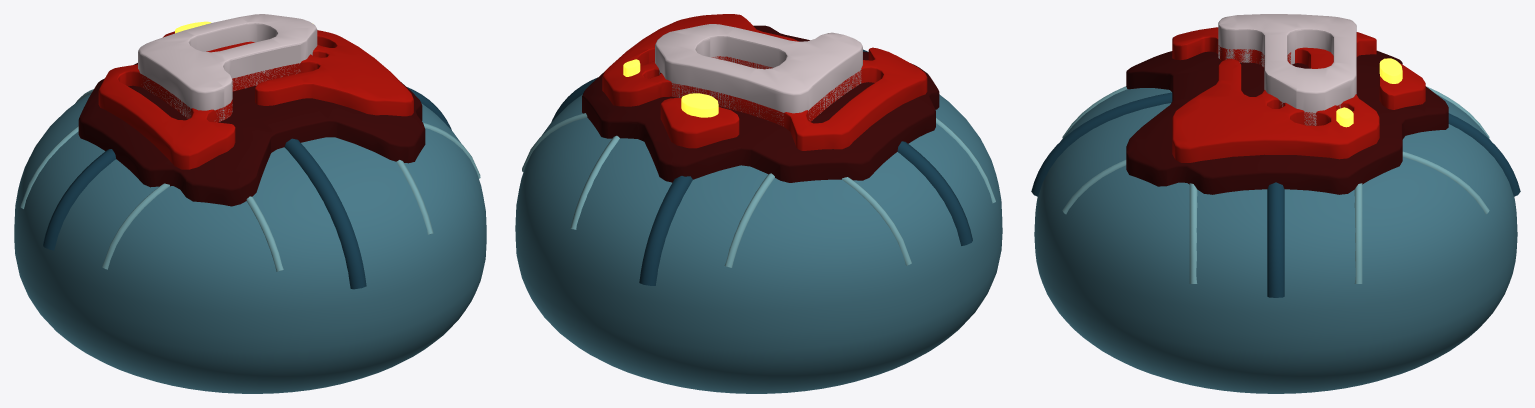
The model's file is pu_pulse_cannon.glb.
The picture shows the model from 3 angles, left to right: view 1: azimuth 30°, elevation 25°; view 2: azimuth 150°, elevation 25°; view 3: azimuth 270°, elevation 25°; orthographic projection. The views are drawn at different scales.
Parts seen in each view (by area): view 1: orb, badge, badge_red, letter, orb_groove_13, orb_seam_13; view 2: orb, badge, badge_red, letter, orb_groove_13, orb_seam_13, badge_glow; view 3: orb, badge, badge_red, letter, orb_groove_13, orb_seam_13, badge_glow.
Boxes of the visible parts, x1,y1,x2,y2 form: orb: (14, 94, 486, 393); badge: (78, 63, 425, 206); badge_red: (98, 30, 413, 169); letter: (138, 14, 317, 121); orb_groove_13: (43, 87, 451, 289); orb_seam_13: (20, 89, 480, 271); orb: (515, 94, 1002, 393); badge: (582, 25, 939, 182); badge_red: (602, 14, 927, 150); letter: (655, 24, 862, 125); orb_groove_13: (551, 49, 972, 285); orb_seam_13: (522, 113, 995, 267); badge_glow: (623, 59, 718, 117); orb: (1034, 88, 1517, 393); badge: (1126, 50, 1448, 194); badge_red: (1172, 27, 1425, 162); letter: (1218, 14, 1356, 125); orb_groove_13: (1031, 92, 1520, 297); orb_seam_13: (1062, 86, 1489, 283); badge_glow: (1336, 58, 1402, 127).
Bounding box in the file's own units: 20.88 × 14.28 × 21.27.
